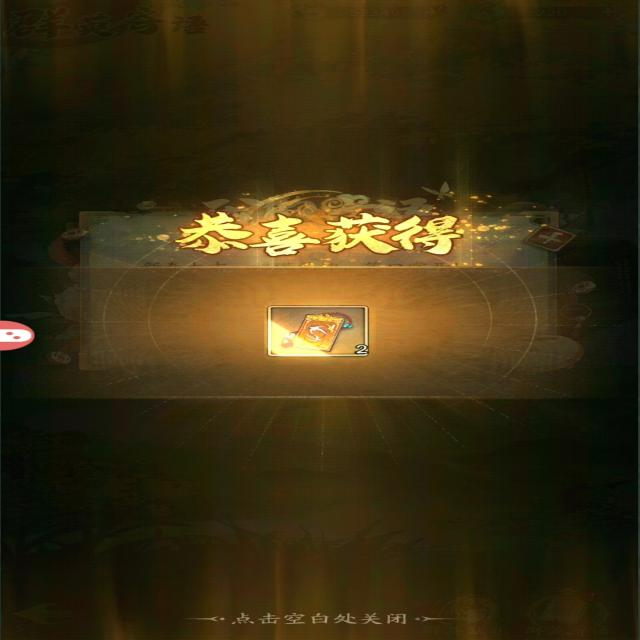hint-guide: (180, 578, 496, 637)
